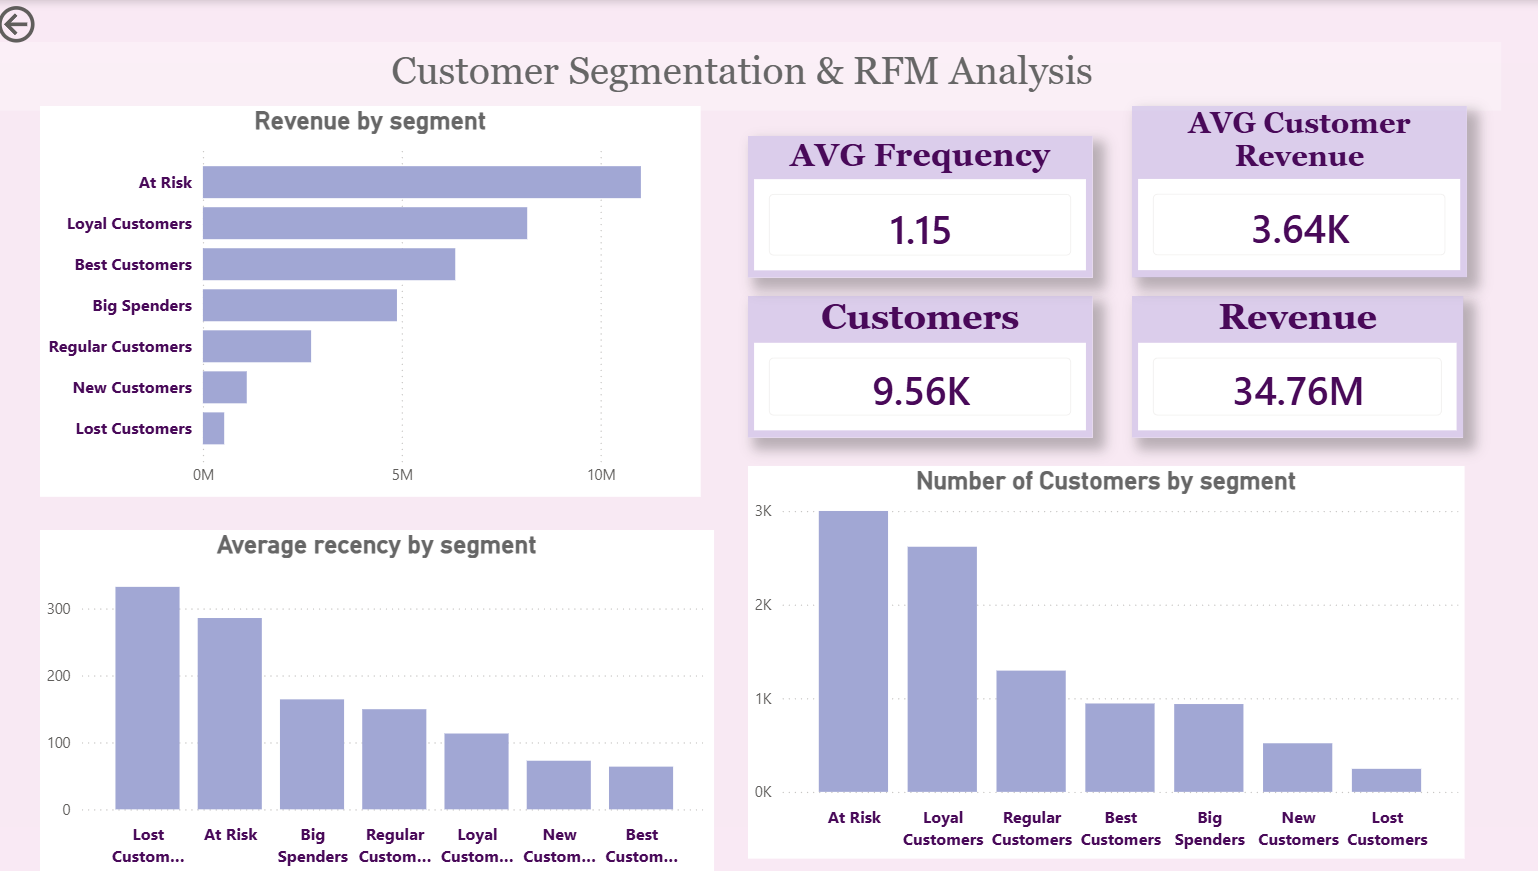

This screenshot's page, from the dashboard's own definition file:
{"tool":"powerbi","page":{"name":"Page 2","canvas":[1280,720],"ordinal":1},"visuals":[{"type":"textbox","box":[0,35.2,1241.7,56.7],"z":0},{"type":"cardVisual","title":"Customers","fields":{"Data":["Count(rfm_recent_ecommerce.cid)"]},"box":[621.6,243.4,283.3,116.4],"z":1000},{"type":"cardVisual","title":"Revenue","fields":{"Data":["Sum(rfm_recent_ecommerce.Monetary)"]},"box":[938.6,243.4,272.5,116.4],"z":2000},{"type":"cardVisual","title":"AVG Customer Revenue ","fields":{"Data":["Avg(rfm_recent_ecommerce.Monetary)"]},"box":[937,87.3,275.6,140.9],"z":3000},{"type":"clusteredBarChart","title":"Revenue by segment","fields":{"Category":["rfm_recent_ecommerce.segment"],"Y":["Sum(rfm_recent_ecommerce.Monetary)"]},"box":[39.8,87.3,543.5,321.5],"z":4000},{"type":"cardVisual","title":"AVG Frequency","fields":{"Data":["Avg(rfm_recent_ecommerce.Frequency)"]},"box":[621.6,111.8,283.3,116.4],"z":5000},{"type":"clusteredColumnChart","title":"Number of Customers by segment","fields":{"Category":["rfm_recent_ecommerce.segment"],"Y":["CountNonNull(rfm_recent_ecommerce.Customers)"]},"box":[621.6,382.8,589.5,323.1],"z":6000},{"type":"clusteredColumnChart","title":"Average recency  by segment","fields":{"Category":["rfm_recent_ecommerce.segment"],"Y":["Avg(rfm_recent_ecommerce.Recency)"]},"box":[39.8,436.4,554.3,284.8],"z":7000},{"type":"actionButton","box":[0,0,100,40],"z":8000}]}

Visuals, with their boxes in screenshot pixels (x1, y1, x2, y2), scaled from the page's 1280x720 canvas onto the 1538x871 screenshot:
textbox: 0/43/1492/111
"Customers" cardVisual: 747/294/1087/435
"Revenue" cardVisual: 1128/294/1455/435
"AVG Customer Revenue " cardVisual: 1126/106/1457/276
"Revenue by segment" clusteredBarChart: 48/106/701/495
"AVG Frequency" cardVisual: 747/135/1087/276
"Number of Customers by segment" clusteredColumnChart: 747/463/1455/854
"Average recency  by segment" clusteredColumnChart: 48/528/714/870
actionButton: 0/0/120/48
